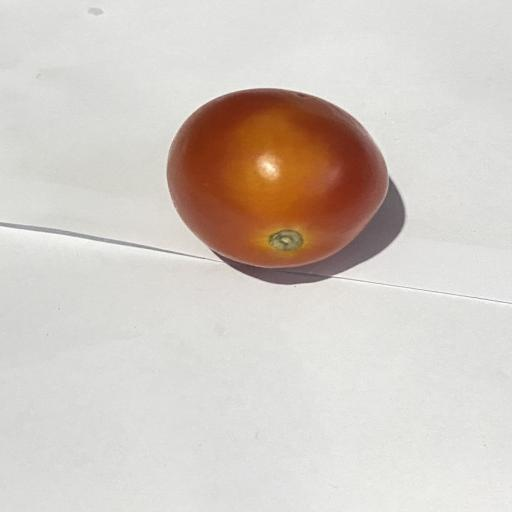ripe: (167, 89, 388, 268)
